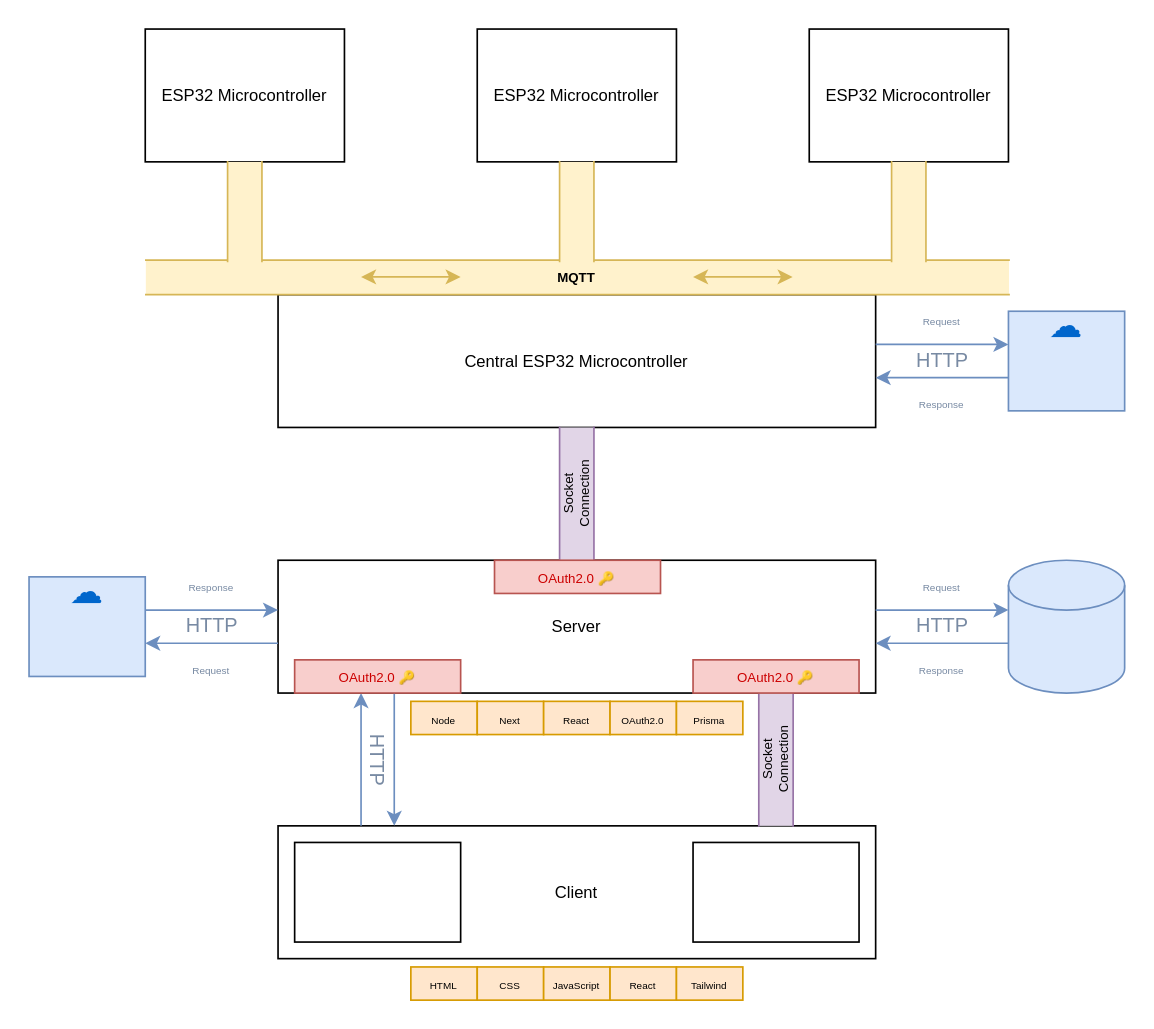
This 1154x1029 diagram has some shape labels left out. Here are the shapes that lost their labels. From the top down, the box of each, then its label:
(1007, 310, 1125, 411): Forecast.Solar API
(27, 575, 145, 676): OpenWeather API
(1007, 559, 1125, 693): PostgreSQL Server
(293, 841, 461, 942): Device Controll
(691, 841, 859, 942): Live Dashboard
